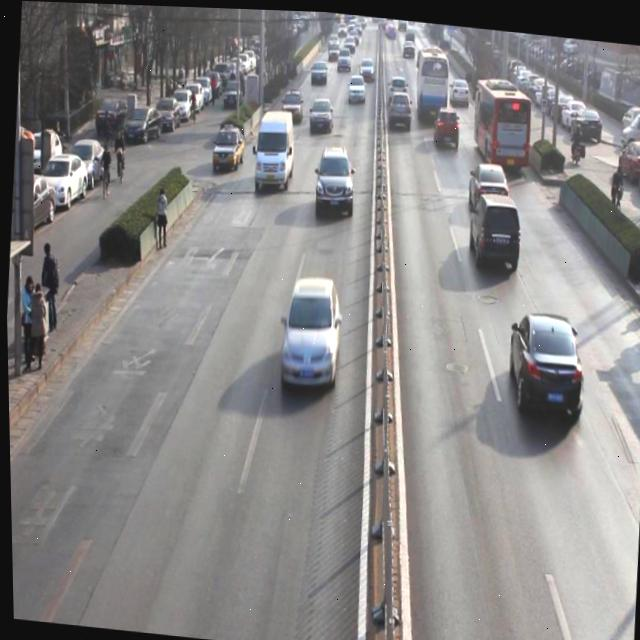car: (503, 305, 589, 419), (276, 267, 346, 394), (465, 184, 524, 270), (311, 139, 356, 220), (465, 155, 510, 211), (208, 121, 246, 174), (431, 98, 462, 146), (306, 94, 336, 135), (386, 86, 414, 129), (279, 85, 305, 122), (386, 71, 409, 104), (449, 72, 471, 104), (346, 70, 367, 103), (308, 56, 327, 83), (358, 53, 375, 79), (336, 47, 352, 70)
truck: (251, 107, 296, 194)
van: (469, 73, 534, 169), (412, 42, 450, 120)
